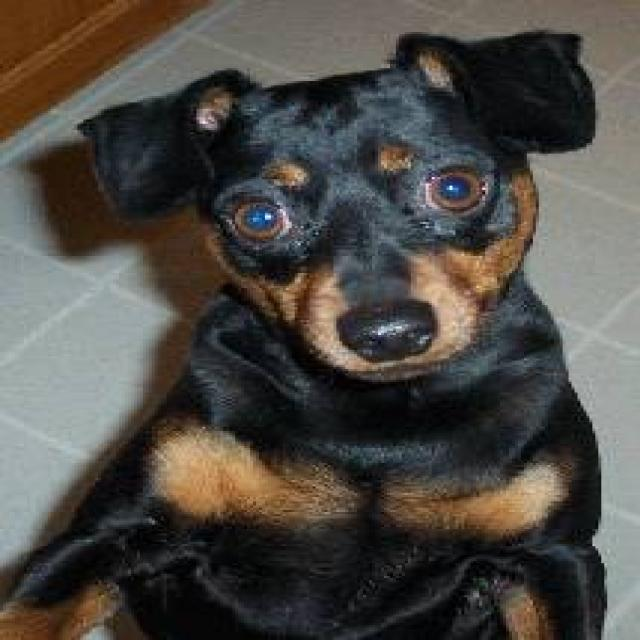dog-miniature_pinscher: (3, 17, 622, 636)
